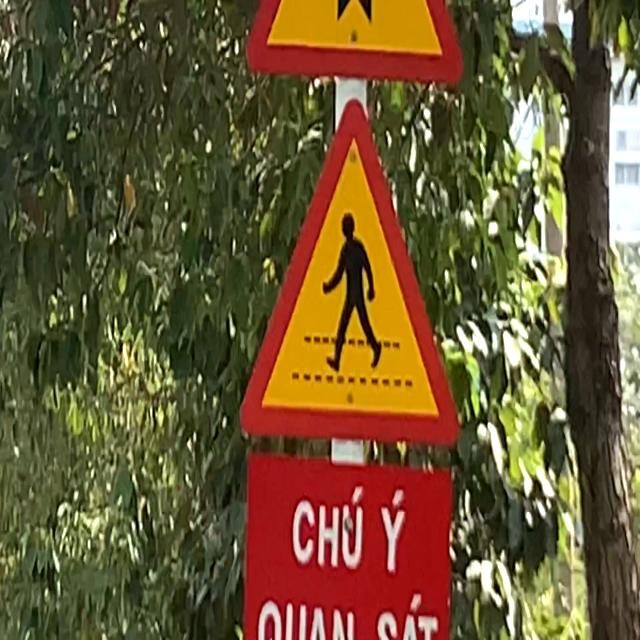W.224: (237, 94, 463, 454)
